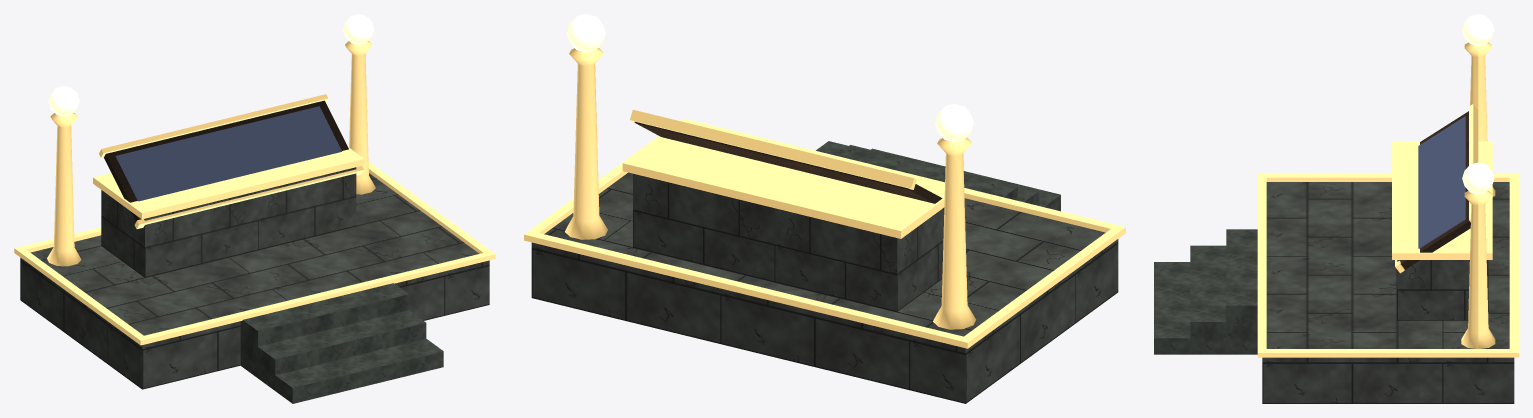
Rendered from console.glb.
The picture shows the model from 3 angles, left to right: view 1: azimuth 30°, elevation 25°; view 2: azimuth 150°, elevation 25°; view 3: azimuth 270°, elevation 25°; orthographic projection. The views are drawn at different scales.
Visible parts, largest first — view 1: console; view 2: console; view 3: console.
Part boxes in pixels (x1,y1,x2,y2): console: [14, 14, 495, 403]; console: [524, 14, 1125, 403]; console: [1154, 14, 1518, 403].
Bounding box in the file's own units: 4.7 × 2.78 × 4.05.
6 materials, 3 textured.
